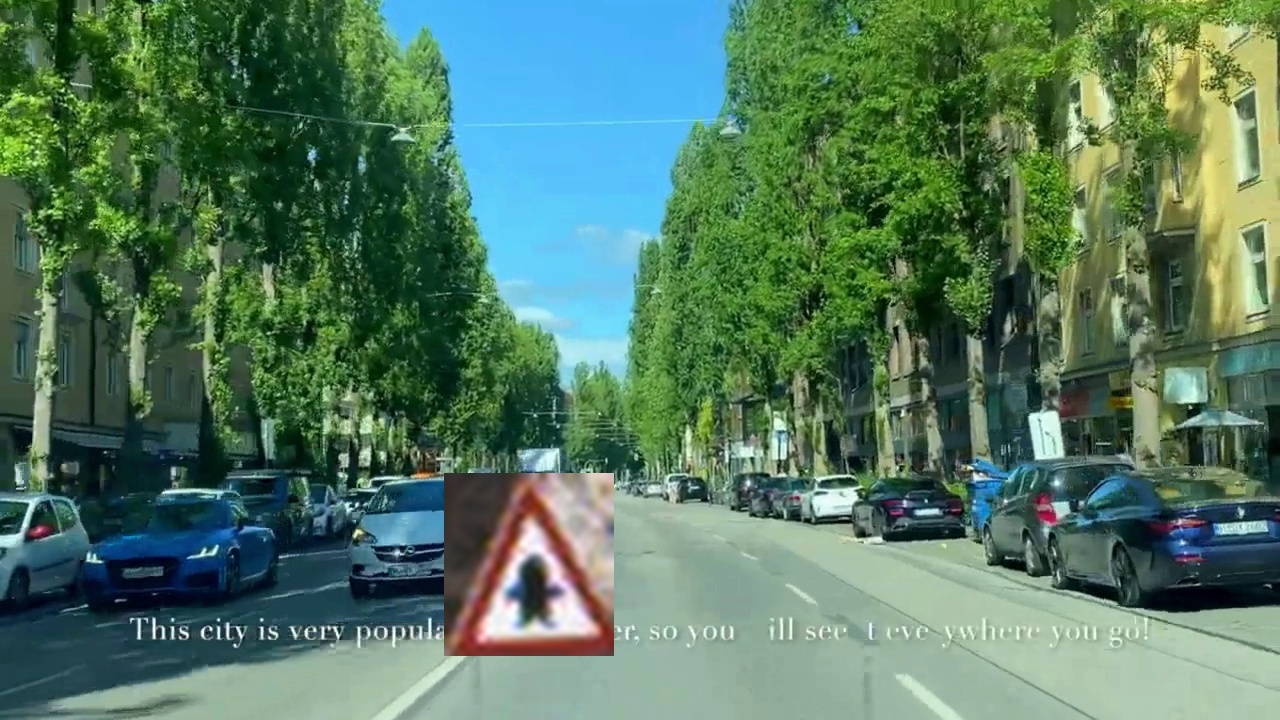Right-of-way: (444, 473, 614, 656)
